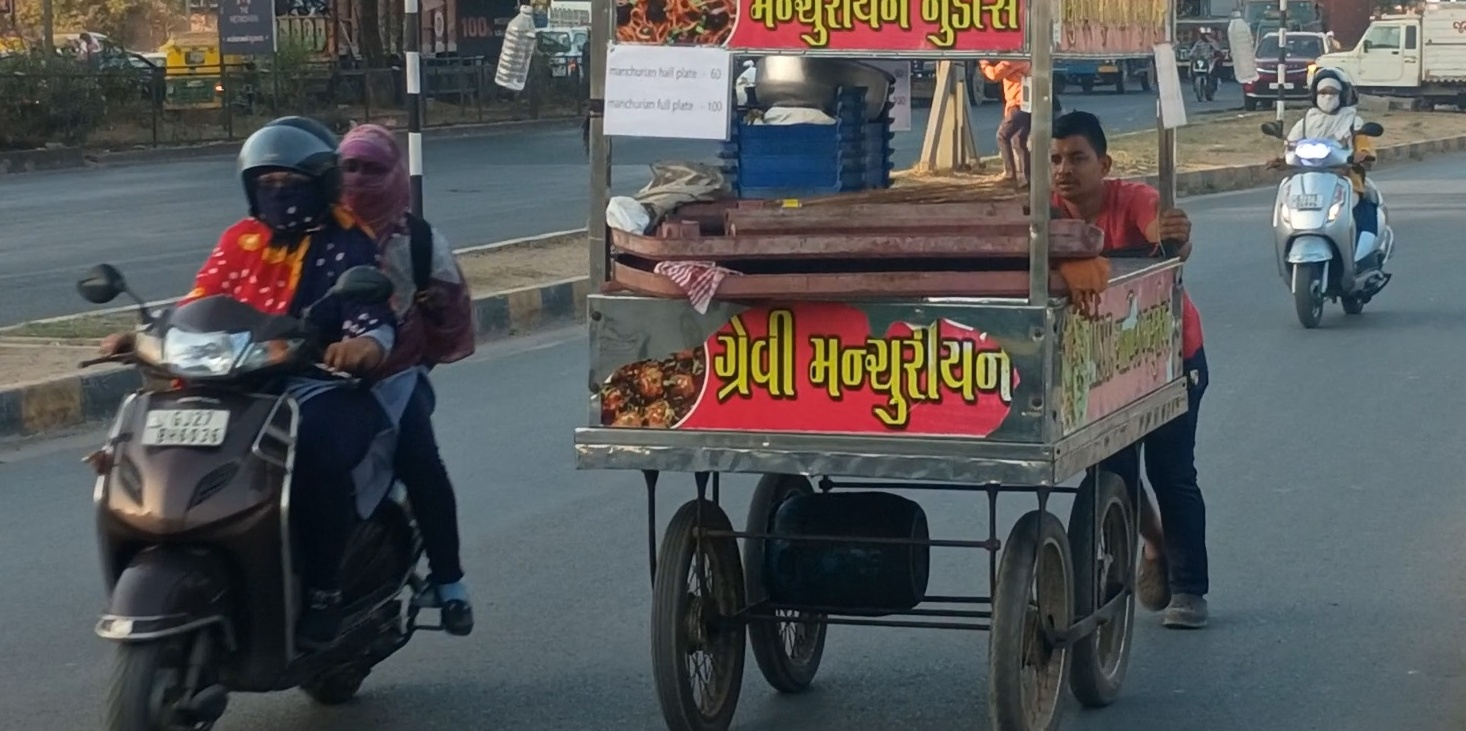BikeWithRider: (48, 104, 500, 731), (1255, 65, 1401, 335), (1183, 17, 1229, 107)
Helmet: (226, 111, 347, 239), (1301, 64, 1360, 117)
NoHelmet: (325, 116, 421, 224)
